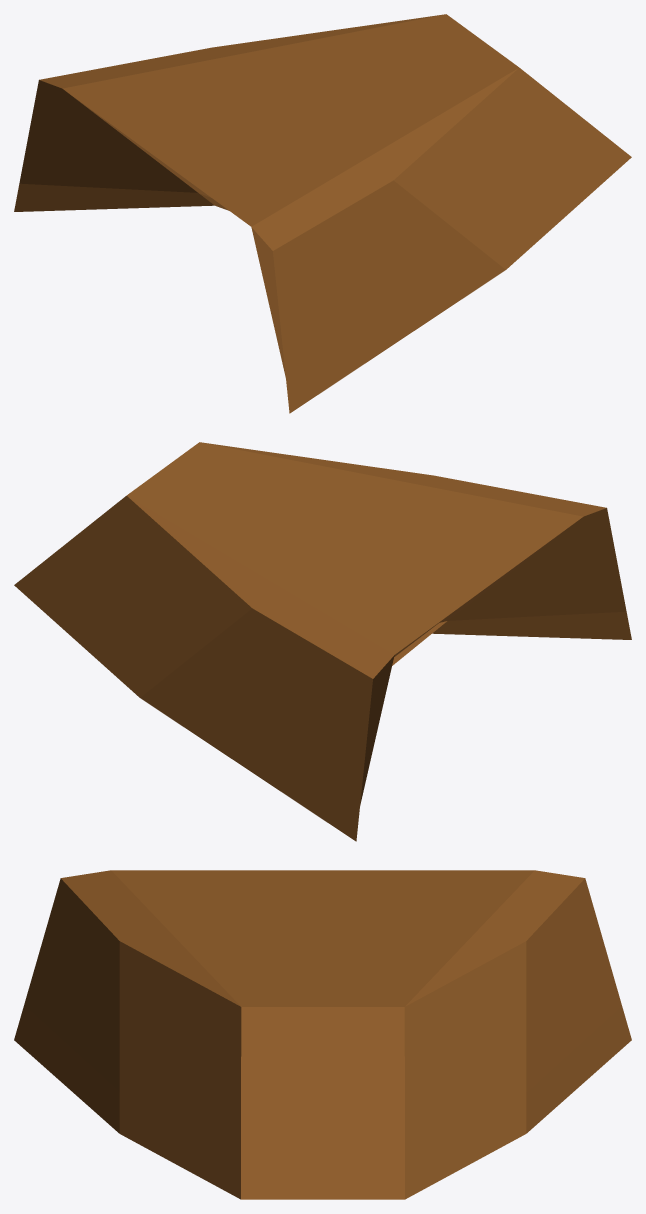
The model's file is Debris 1.fbx.
3 renders of one model, top to bottom at view 1: azimuth 30°, elevation 25°; view 2: azimuth 150°, elevation 25°; view 3: azimuth 270°, elevation 25°, orthographic. The views are drawn at different scales.
Parts seen in each view (by area): view 1: Cube.002; view 2: Cube.002; view 3: Cube.002.
Boxes of the visible parts, left/top/right/bottom form: Cube.002: left=14, top=14, right=631, bottom=413; Cube.002: left=14, top=442, right=631, bottom=841; Cube.002: left=14, top=870, right=631, bottom=1199.
Bounding box in the file's own units: 13.59 × 6.13 × 14.62.
